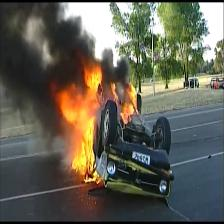fire: (48, 47, 155, 193)
smoke: (0, 1, 159, 90), (0, 10, 69, 158)
